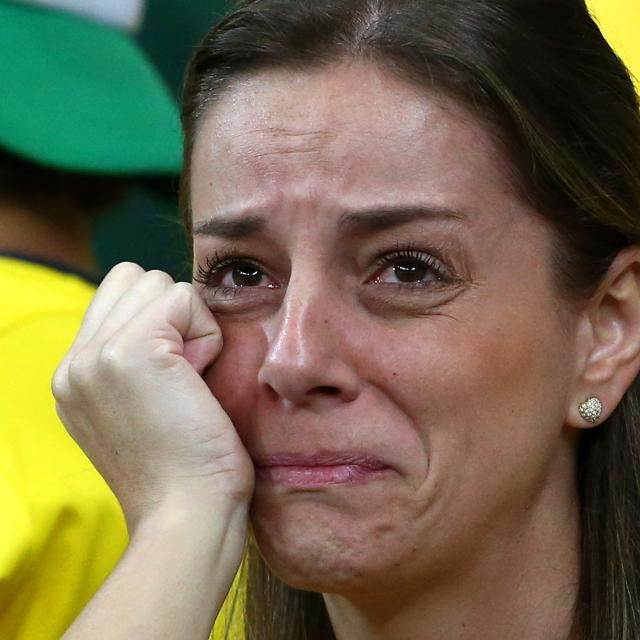Depress: (190, 62, 587, 594)
